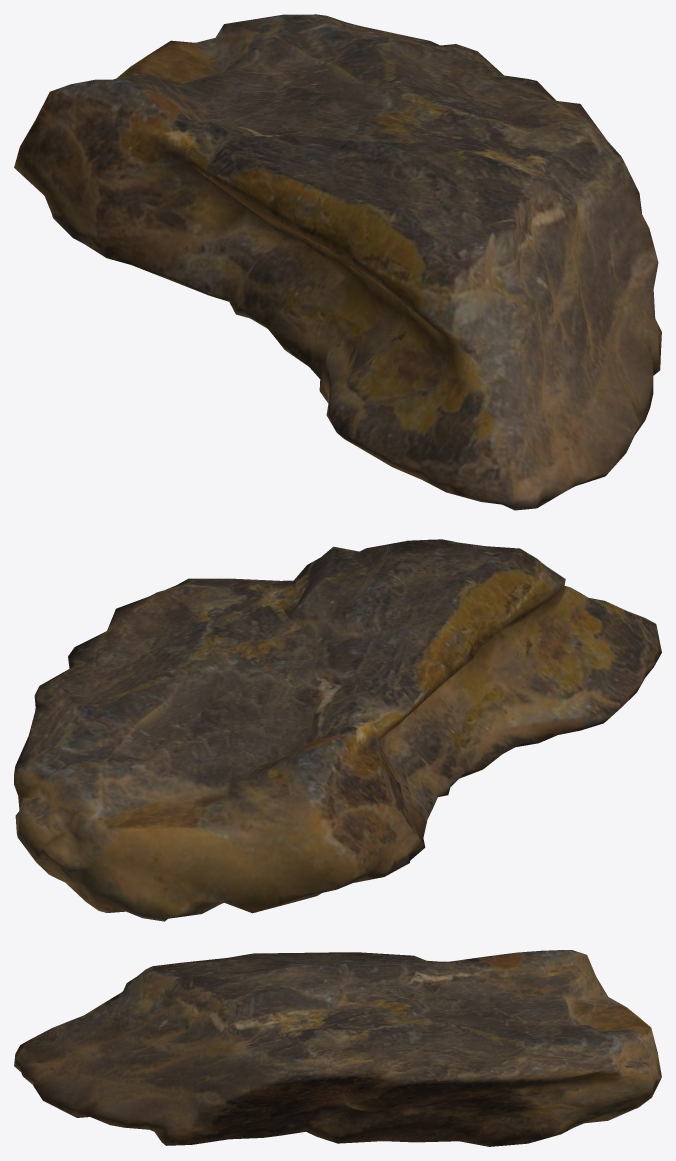
Rendered from rock_rock_09.3c73619748.glb.
3 renders of one model, top to bottom at view 1: azimuth 30°, elevation 25°; view 2: azimuth 150°, elevation 25°; view 3: azimuth 270°, elevation 25°, orthographic. The views are drawn at different scales.
Parts seen in each view (by area): view 1: rock_09; view 2: rock_09; view 3: rock_09.
Part boxes in pixels (bbox=[...]): rock_09: bbox=[14, 14, 661, 510]; rock_09: bbox=[14, 539, 661, 921]; rock_09: bbox=[14, 950, 661, 1146].
Size of the model in its own units: 0.5069 by 0.2262 by 0.9983.
1 material, 1 textured.
